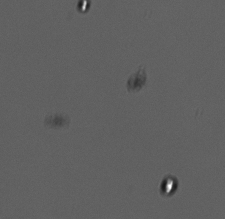Dead Cell: (125, 71, 148, 92)
Living Cell: (157, 173, 180, 199), (73, 1, 93, 12)
